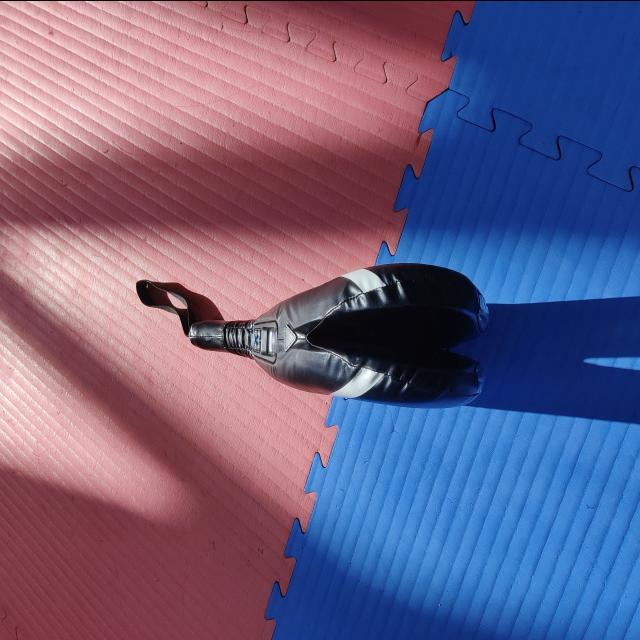paddle: (187, 260, 490, 410)
